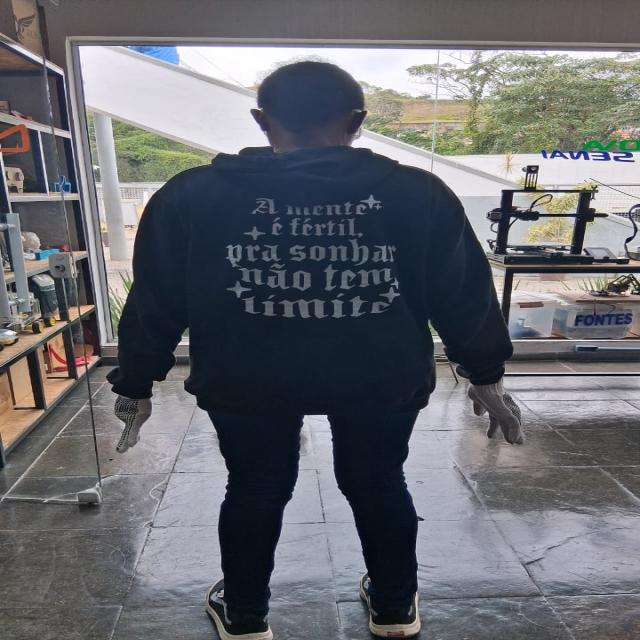LUVA: (462, 377, 532, 447), (107, 380, 158, 457)
SEM BOTA: (357, 564, 435, 637), (197, 572, 277, 638)
